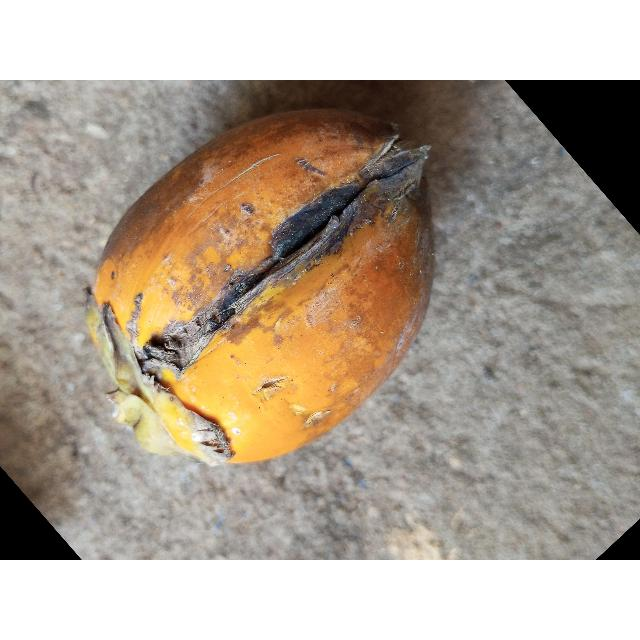damaged: (86, 109, 436, 468)
